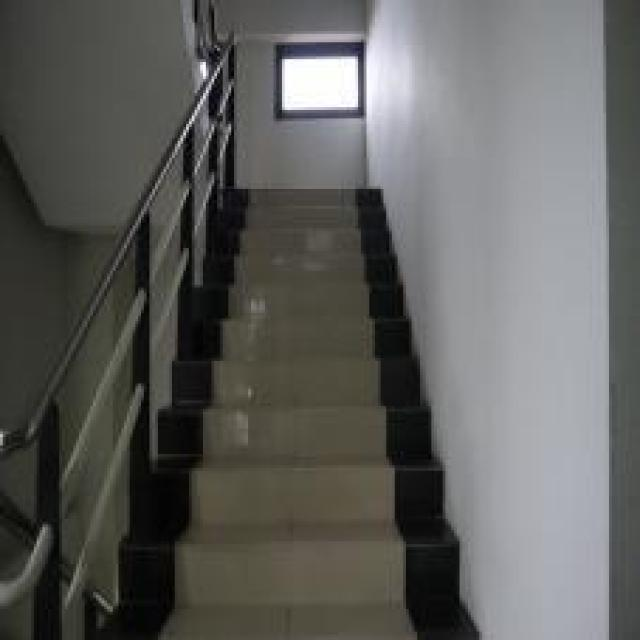upstair: (179, 190, 416, 638)
